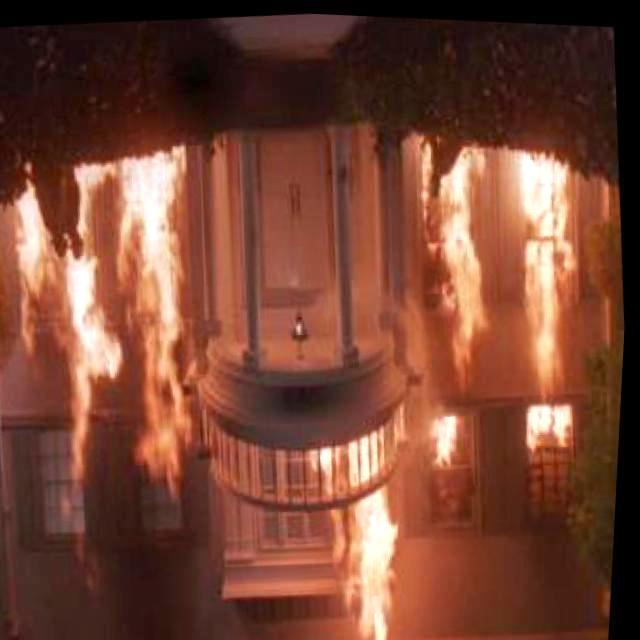fire: (1, 147, 219, 533), (396, 99, 510, 397), (506, 115, 590, 442), (324, 396, 421, 640), (427, 402, 478, 492)
